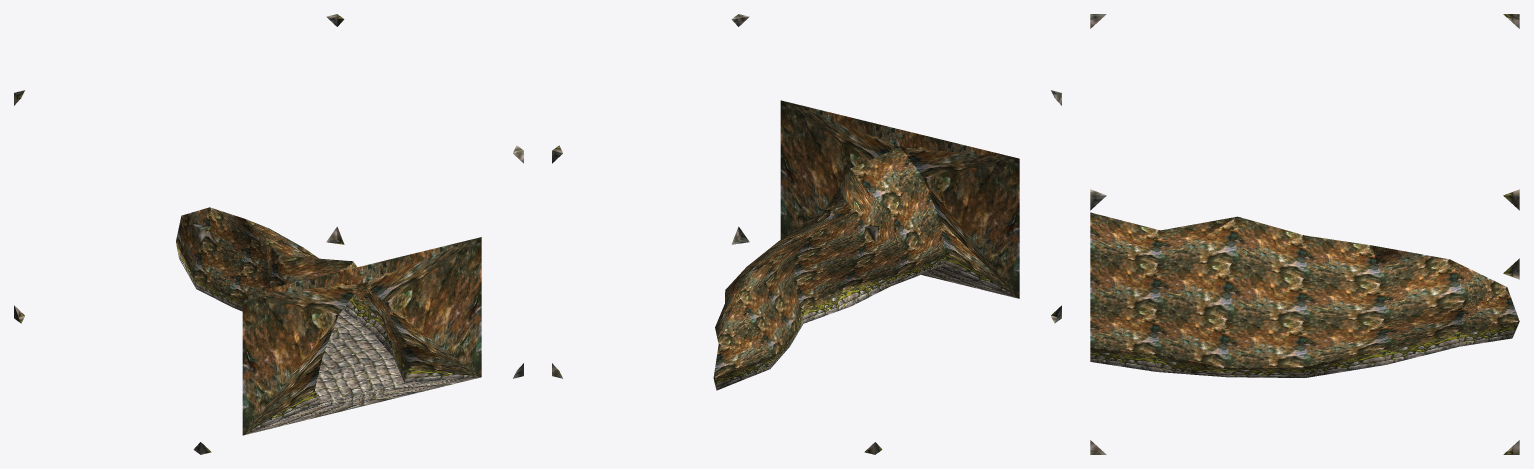
The model's file is lbc_1a.glb.
3 views of the same model, side by side, from view 1: azimuth 30°, elevation 25°; view 2: azimuth 150°, elevation 25°; view 3: azimuth 270°, elevation 25° (orthographic). The views are drawn at different scales.
Visible parts, largest first — view 1: lbc_1a-col; view 2: lbc_1a-col; view 3: lbc_1a-col.
Boxes of the visible parts, bbox=[...] form: lbc_1a-col: bbox=[14, 14, 523, 454]; lbc_1a-col: bbox=[552, 14, 1061, 454]; lbc_1a-col: bbox=[1090, 14, 1519, 454].
Size of the model in its own units: 15 by 10 by 15.
3 materials, 3 textured.
